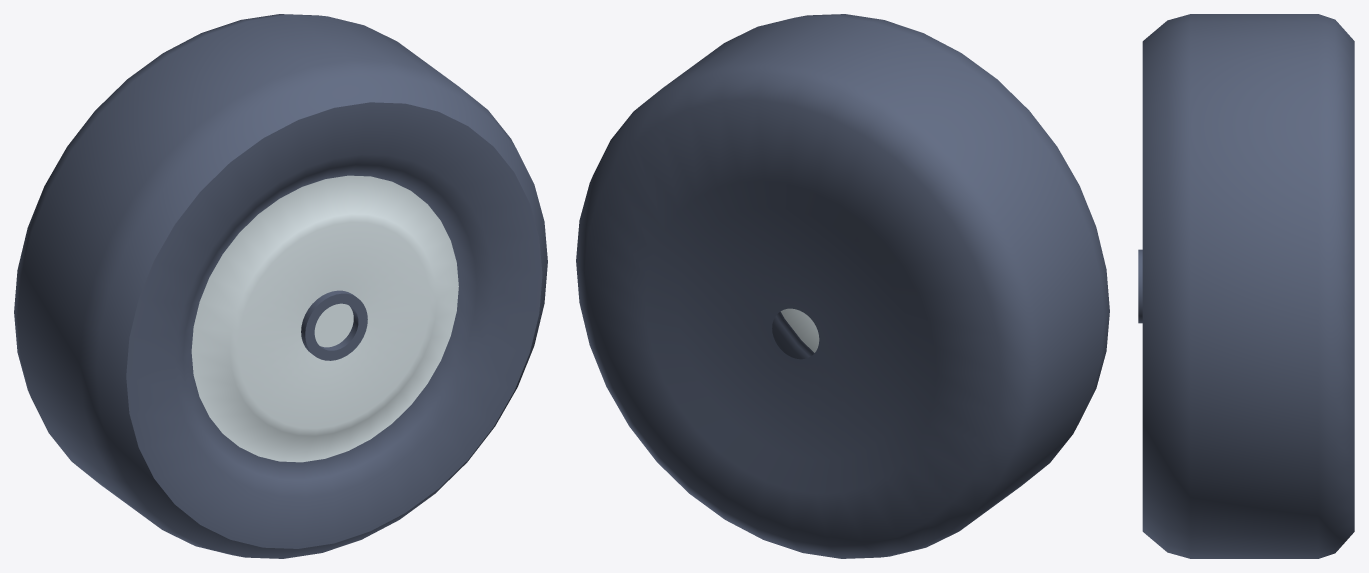
Rendered from wheel.glb.
3 views of the same model, side by side, from view 1: azimuth 30°, elevation 25°; view 2: azimuth 150°, elevation 25°; view 3: azimuth 270°, elevation 25° (orthographic). The views are drawn at different scales.
Visible parts, largest first — view 1: Cylinder_6; view 2: Cylinder_6; view 3: Cylinder_6.
Boxes of the visible parts, x1,y1,x2,y2 form: Cylinder_6: [14, 14, 547, 558]; Cylinder_6: [576, 14, 1109, 558]; Cylinder_6: [1138, 14, 1354, 558].
Bounding box in the file's own units: 49.42 × 49.42 × 19.55.
